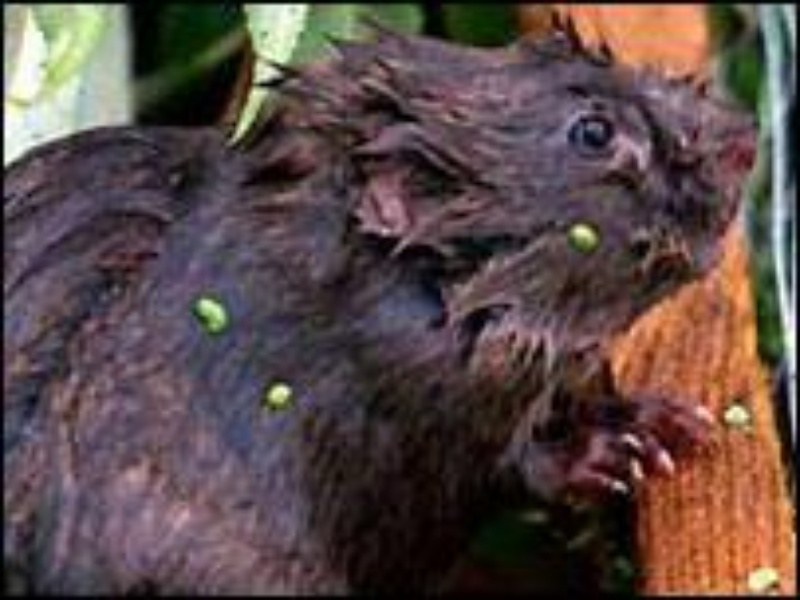minkish: (14, 26, 761, 585)
